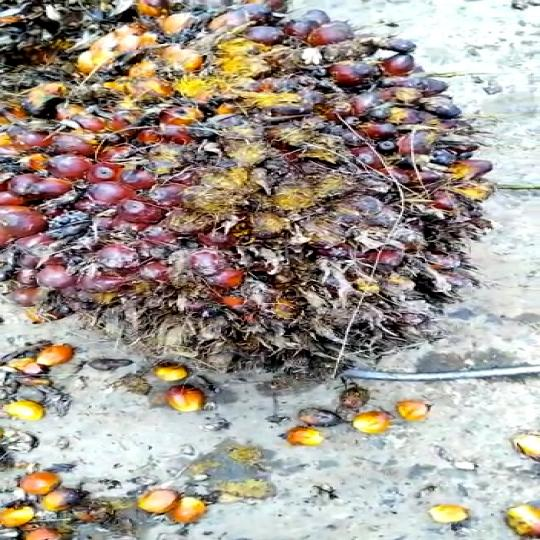masak: (0, 0, 500, 392)
